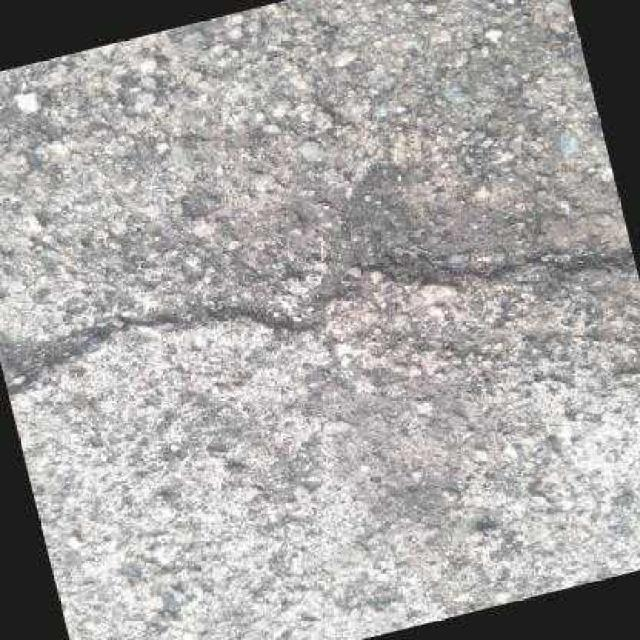D00: (2, 235, 631, 396)
